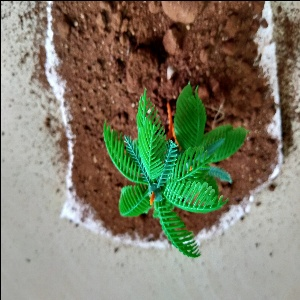plant: (100, 80, 251, 262)
